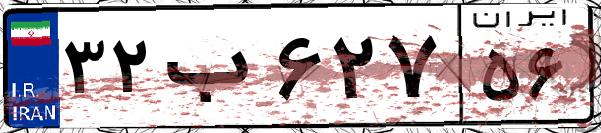2: (330, 28, 385, 110), (110, 28, 158, 98)
3: (57, 26, 110, 100)
5: (475, 38, 525, 113)
6: (270, 28, 330, 110), (525, 38, 570, 115)
7: (385, 28, 445, 110)
ب: (158, 20, 270, 120)
